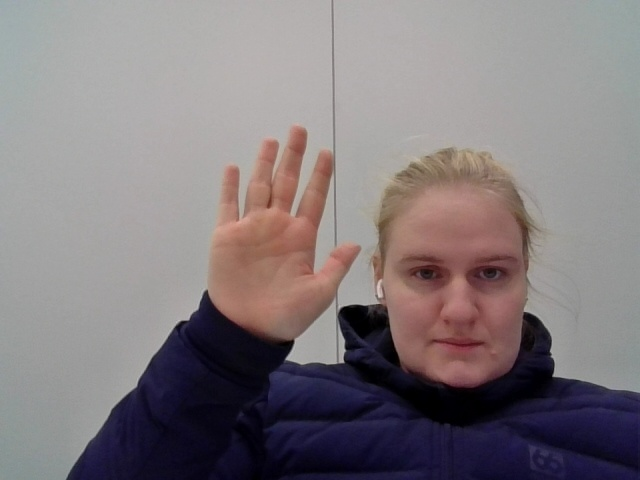nada: (196, 112, 369, 351)
